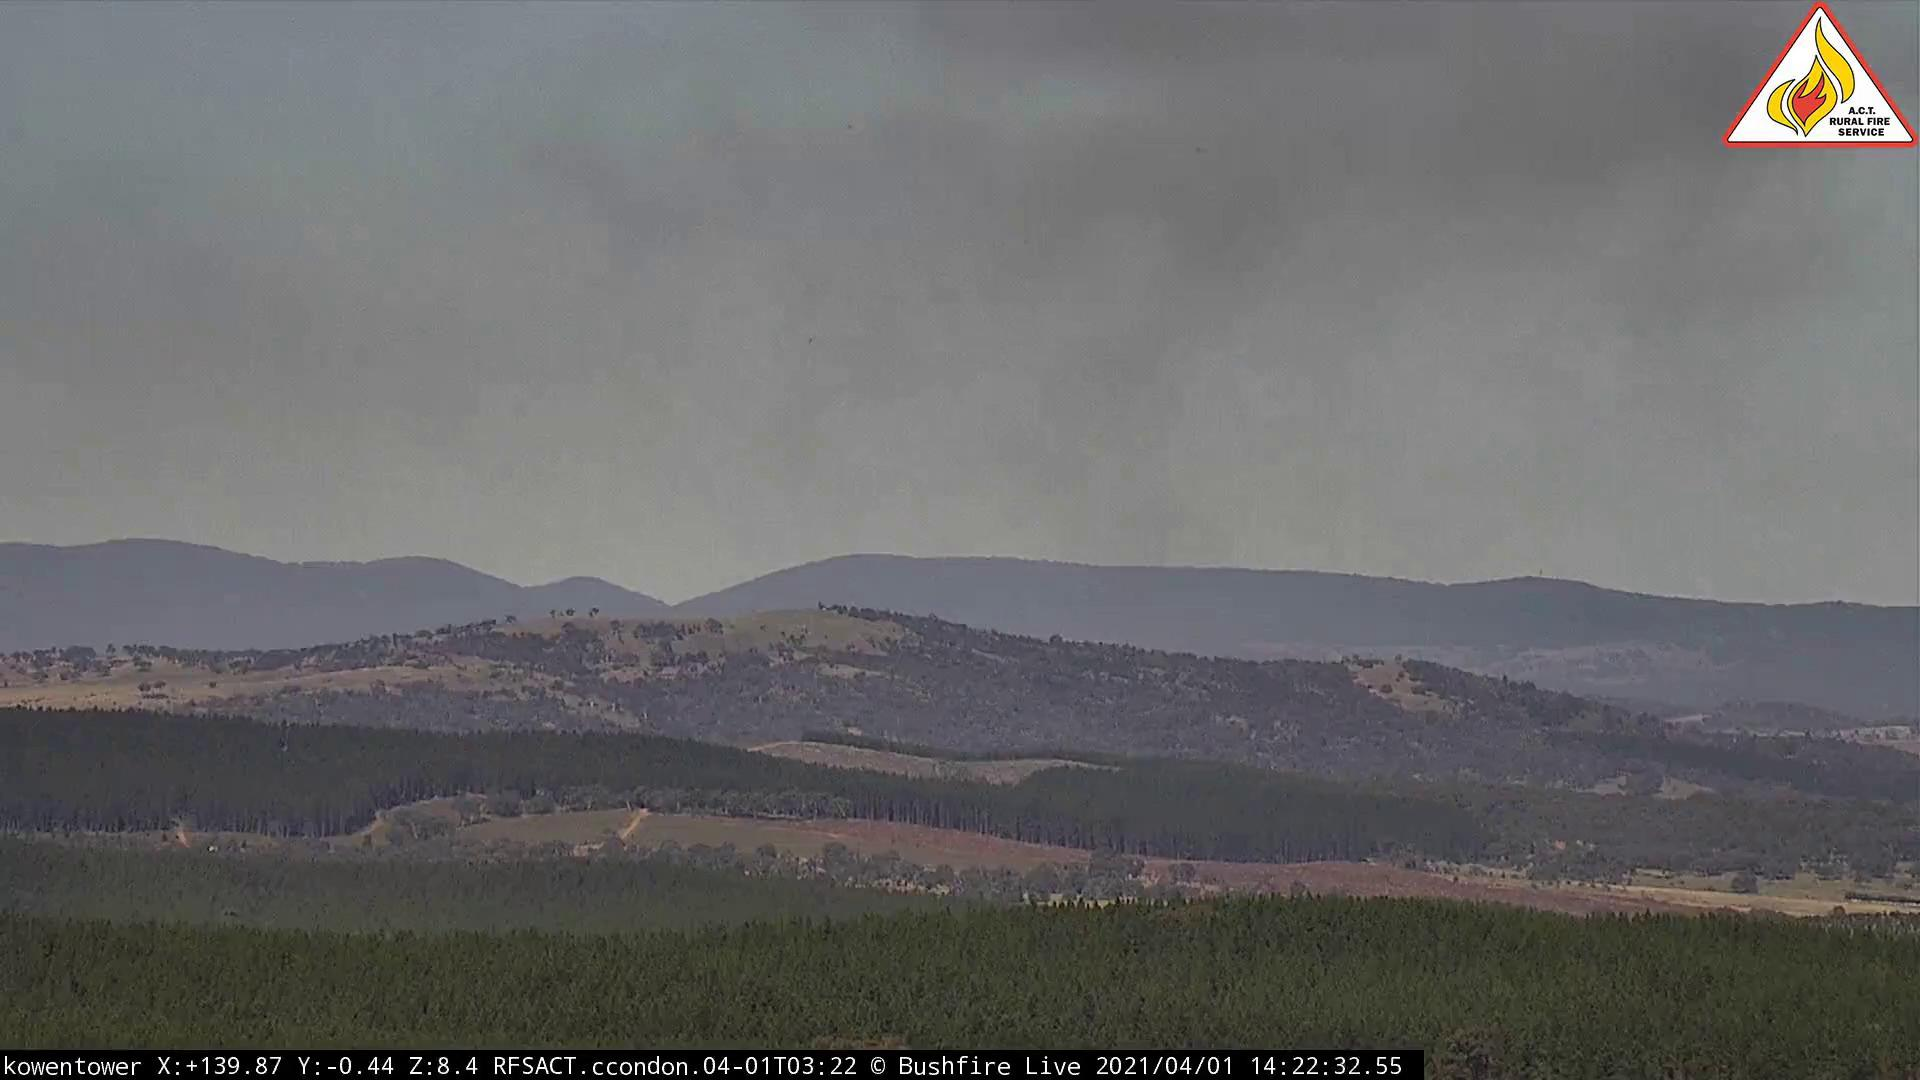instance_salient_object: (406, 3, 1920, 626)
